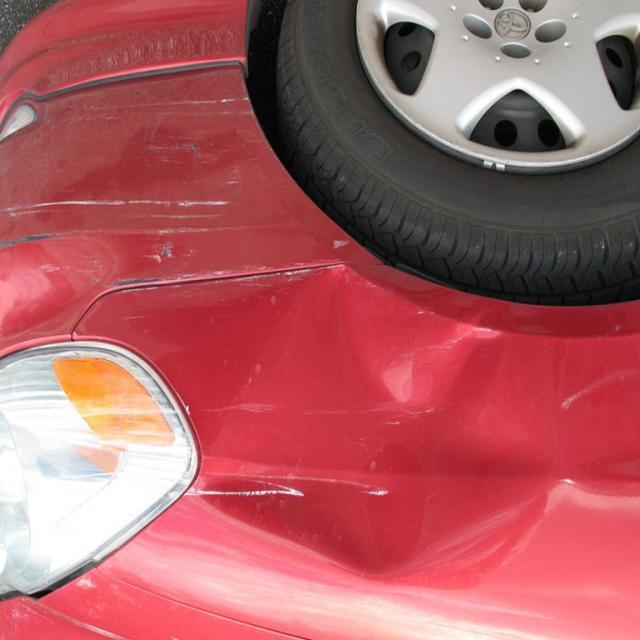dent: (93, 230, 582, 582)
